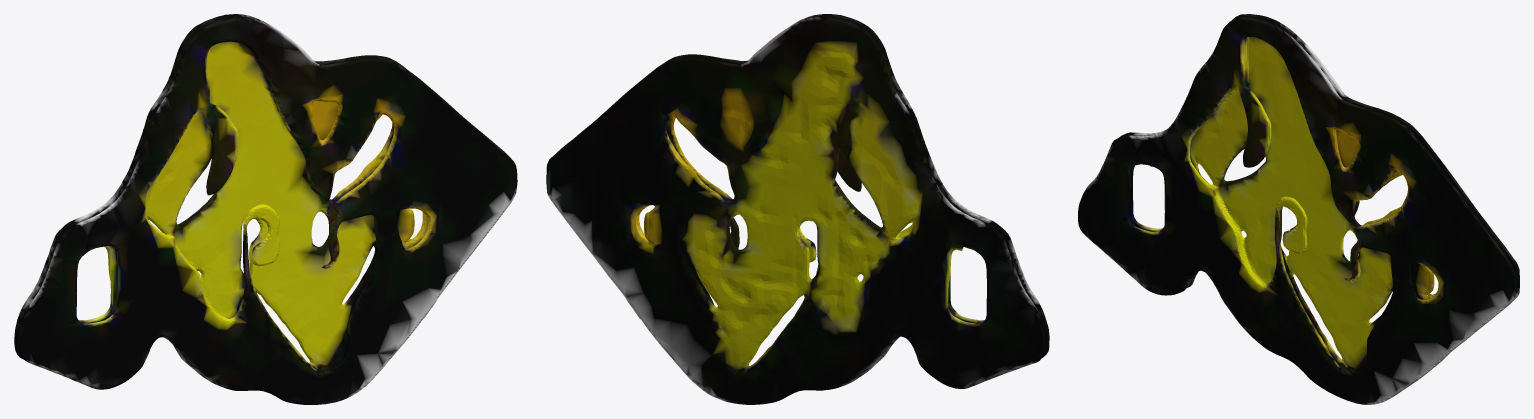
The model's file is phil_sulphur.glb.
3 views of the same model, side by side, from view 1: azimuth 30°, elevation 25°; view 2: azimuth 150°, elevation 25°; view 3: azimuth 330°, elevation 25° (orthographic). The views are drawn at different scales.
Parts seen in each view (by area): view 1: geometry_0; view 2: geometry_0; view 3: geometry_0.
Boxes of the visible parts, box(x1,y1,x2,y2) form: geometry_0: box(14, 14, 517, 404); geometry_0: box(546, 14, 1049, 404); geometry_0: box(1078, 14, 1519, 404).
Bounding box in the file's own units: 0.5 × 0.3929 × 0.0137.
